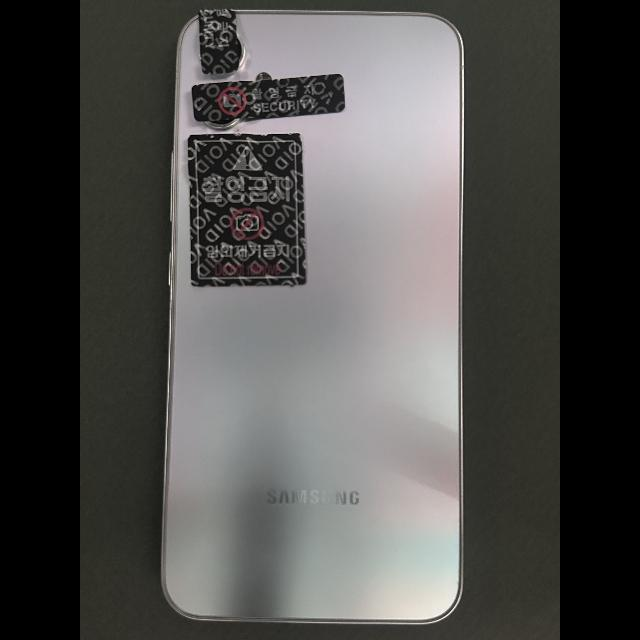lens: (204, 119, 241, 129), (237, 37, 245, 67)
phone: (160, 10, 464, 624)
sticker: (188, 133, 309, 288), (191, 74, 346, 122), (200, 8, 238, 76)
